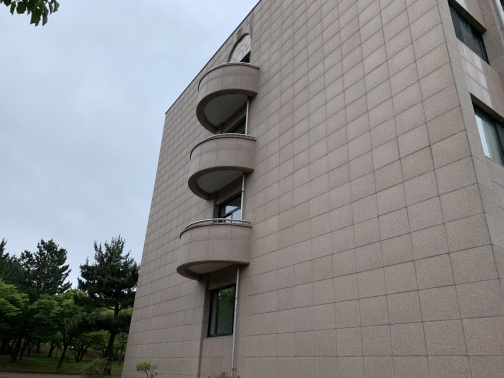Natural Science2: (161, 47, 340, 373)
